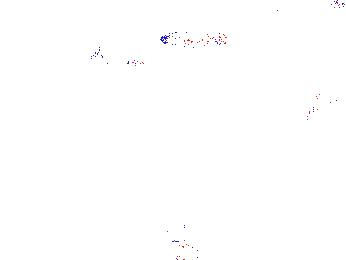redtail glassfish: (87, 44, 150, 70), (159, 27, 228, 50), (302, 86, 343, 119)
siberian prawn: (171, 213, 202, 260)
